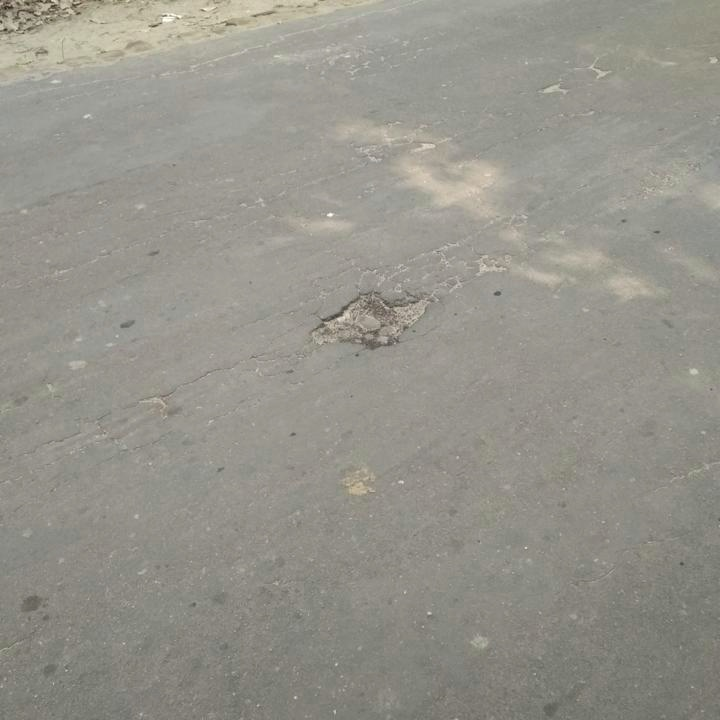pothole: (302, 285, 433, 346)
